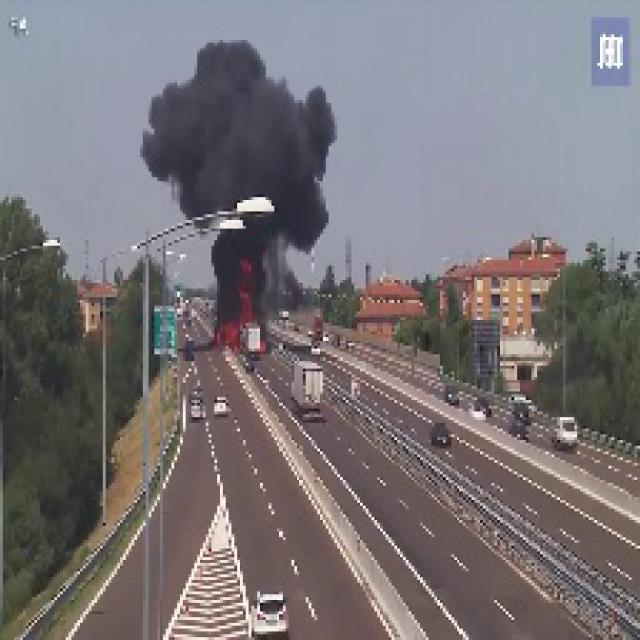fire: (214, 255, 269, 352)
